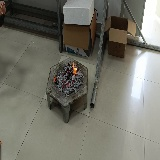fire: (73, 62, 76, 75), (53, 76, 56, 81)
